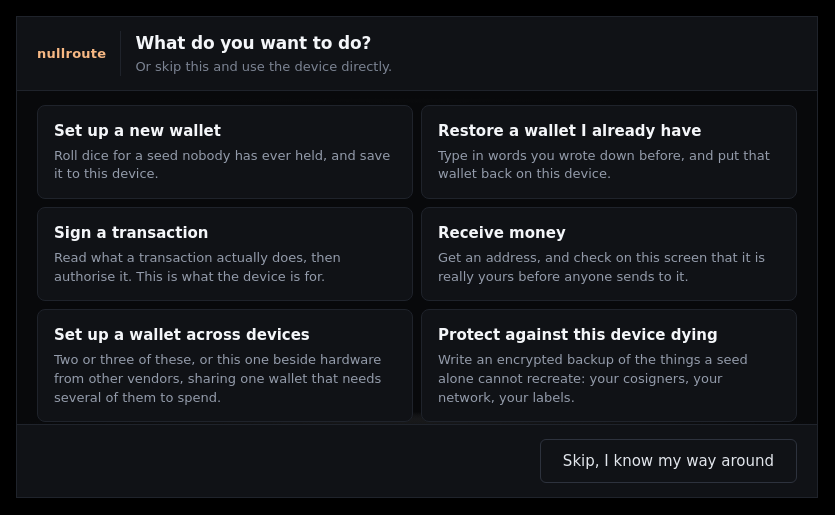
it: StartScreen › says-up-front-what-the-journey-does-not-finish
Step 1. Click the button with test id "start-goal-multisig" → (225, 366), box [37,309,413,422]
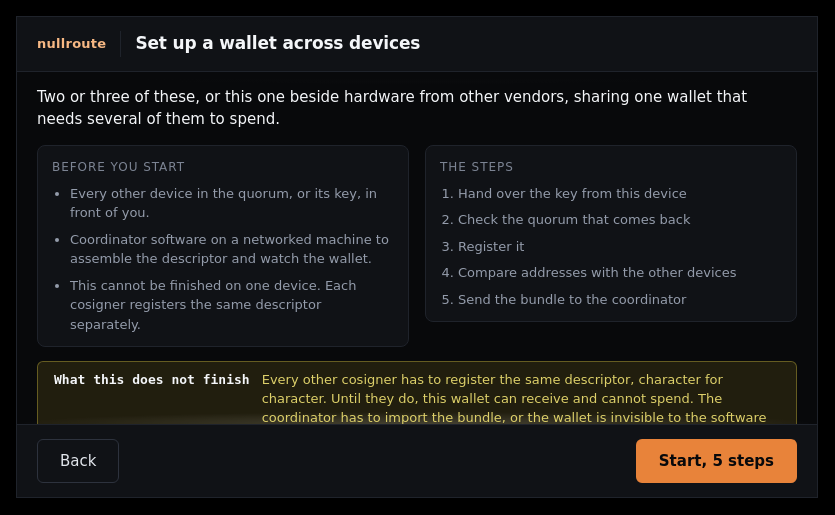
Now the element with test id "start-then" shows "does not finish", box [54,372,250,387]
